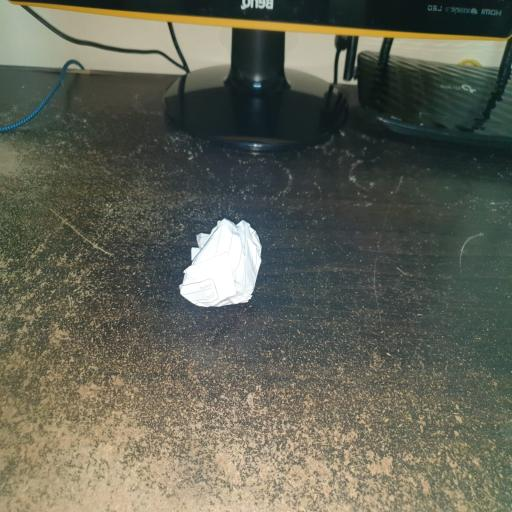Kertas: (175, 218, 261, 313)
